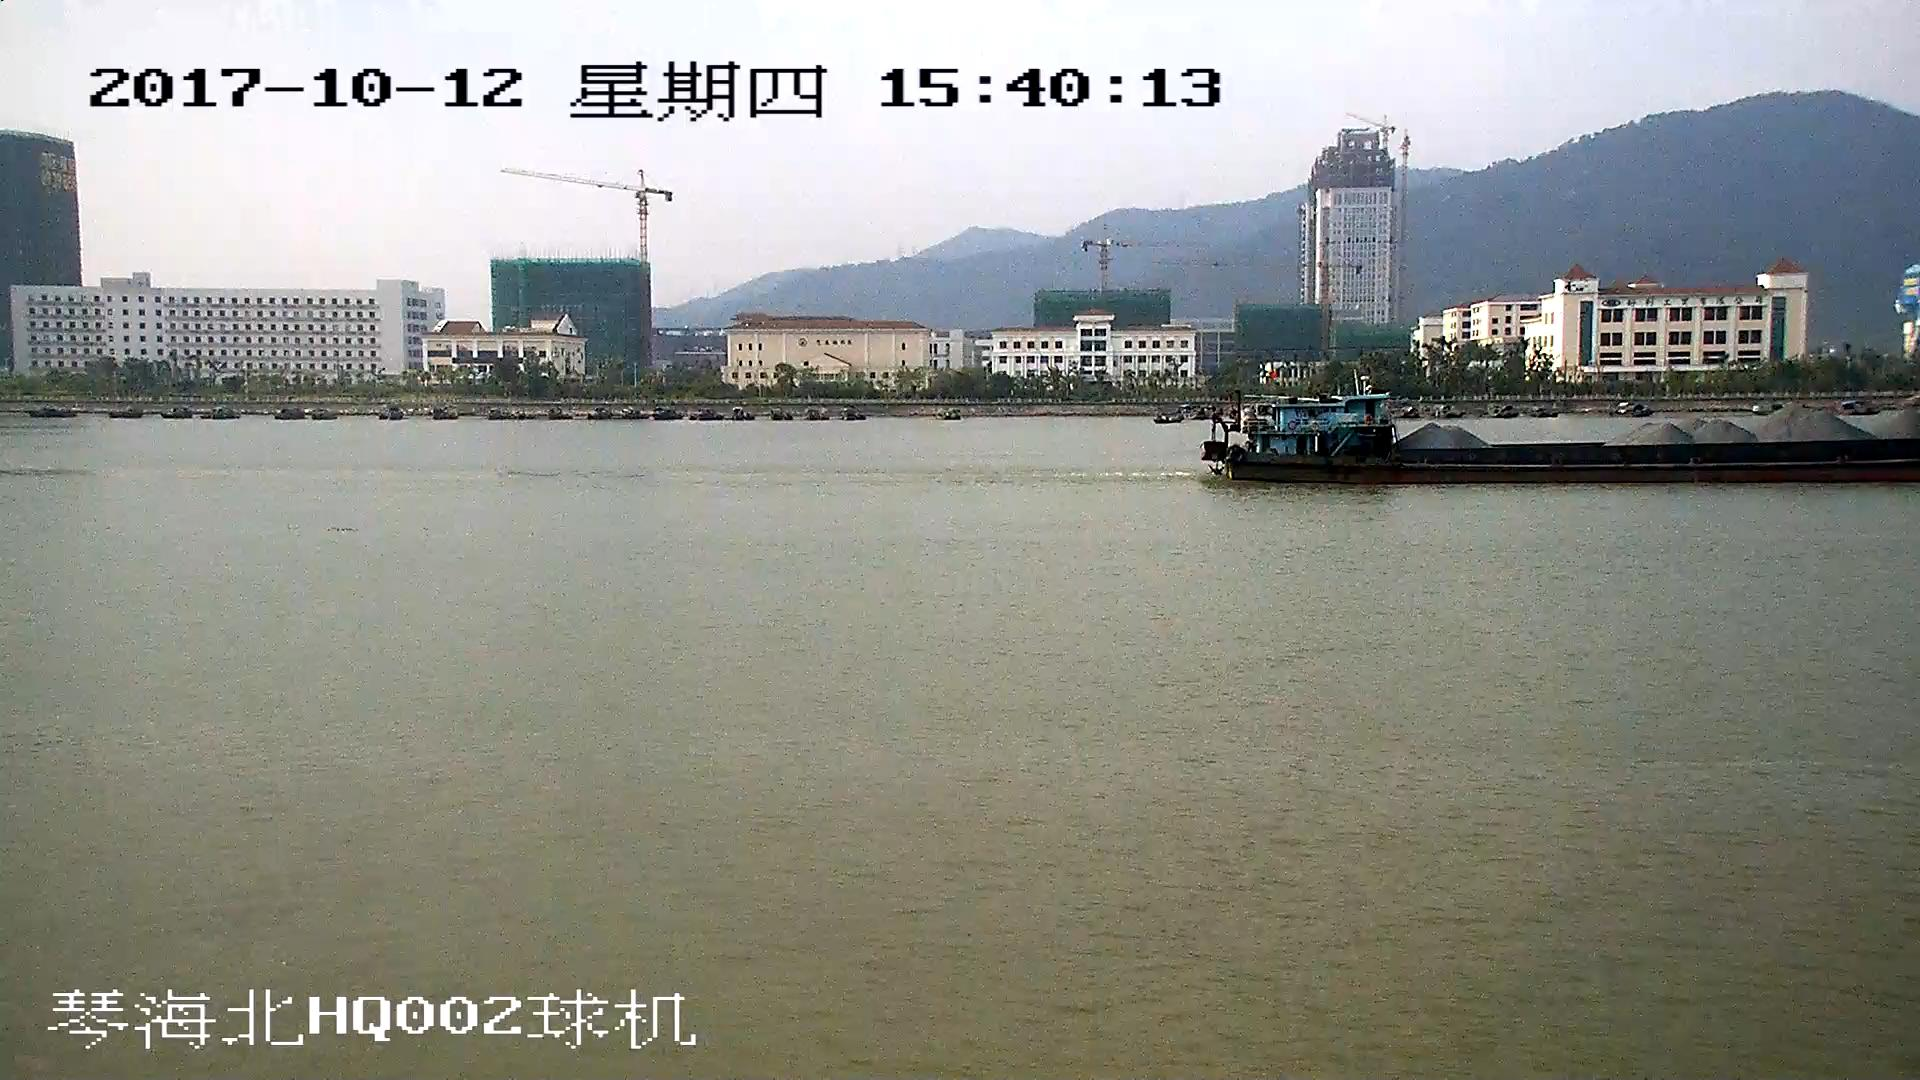ore carrier: (1205, 393, 1920, 484)
